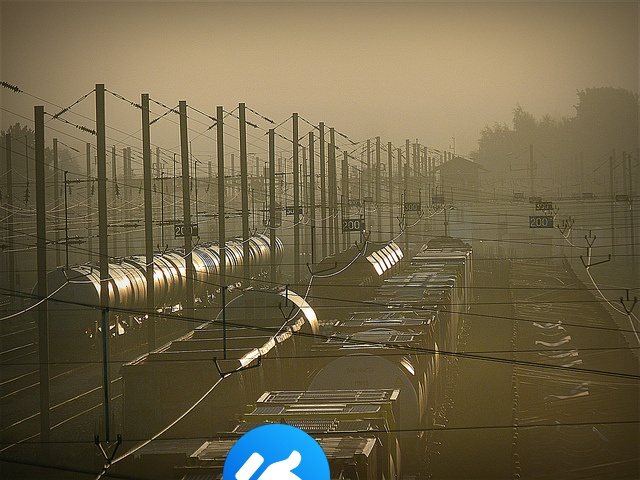like: (223, 424, 330, 480)
